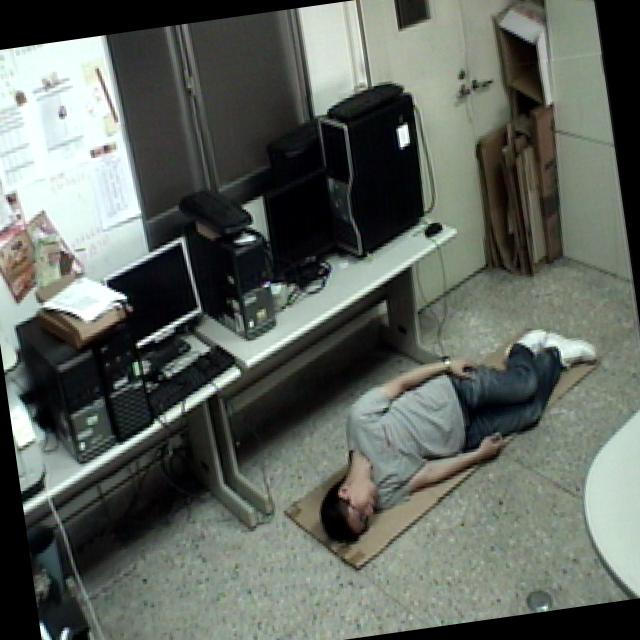lie: (296, 312, 626, 548)
